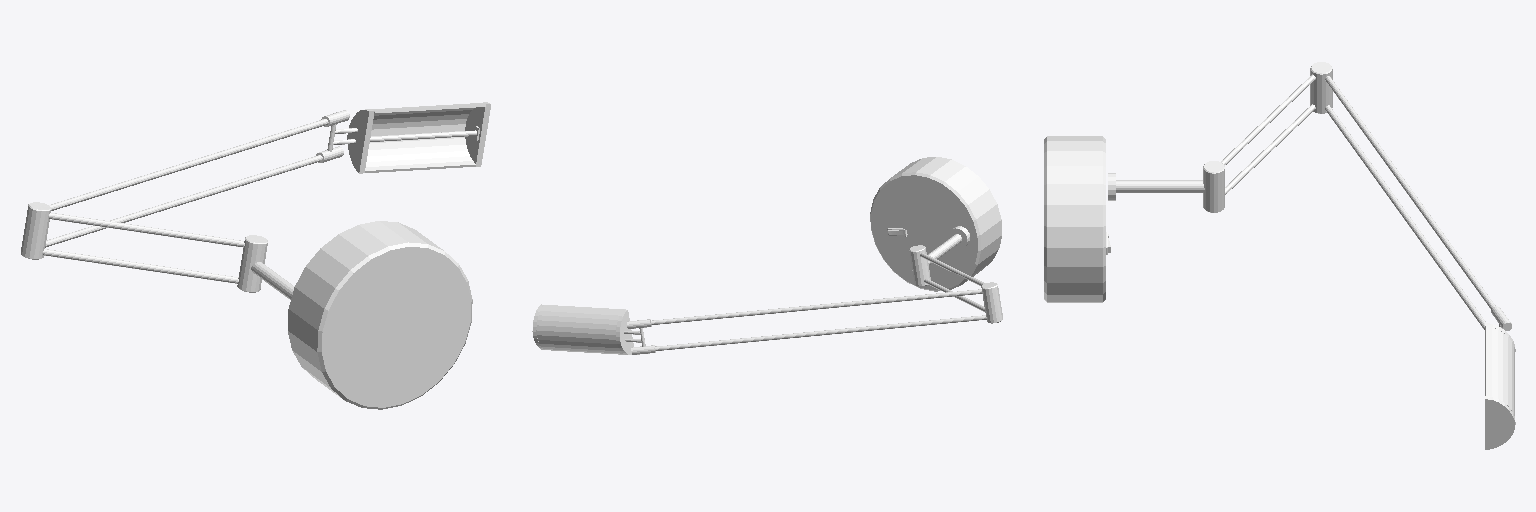
The robot description file, URDF, robot "cube.urdf":
<?xml version="0.0" ?>
<robot name="cube.urdf">
  <link name="baseLink">
    <contact>
      <lateral_friction value="1.0"/>
  <!--     <rolling_friction value="0.0"/>
      <spinning_friction value="0.01">
      <inertia_scaling value="3.0"/>
      <contact_cfm value="0.0"/>
      <contact_erp value="1.0"/> -->
    </contact>
    <inertial>
      <origin rpy="0 0 0" xyz="0 0 0"/>
       <mass value="2"/>
       <inertia ixx="1" ixy="0" ixz="0" iyy="1" iyz="0" izz="1"/>
    </inertial>
    <visual>
      <origin rpy="0 0 0" xyz="0 0 0"/>
        <geometry>
      <mesh filename="model.obj" scale=".8 .8 .8"/>
        </geometry>
        <material name="white">
          <color rgba="1 1 1 1"/>
        </material>
    </visual>
    <collision>
        <origin rpy="0 0 0" xyz="0 0 0"/>
        <geometry>
          <mesh filename="model.obj" scale=".8 .8 .8"/>
        </geometry>
    </collision>
  </link>
</robot>

--- What the picture shows (computed from the rendered views, not written in the file) ---
The picture shows the robot from 3 angles, left to right: view 1: azimuth 30°, elevation 25°; view 2: azimuth 150°, elevation 25°; view 3: azimuth 270°, elevation 25°; orthographic projection.
Robot: cube.urdf — 1 links, 0 joints (none); root link baseLink; default pose: every joint at zero.
Links seen in each view (by area): view 1: baseLink; view 2: baseLink; view 3: baseLink.
Boxes of the visible links, x1,y1,x2,y2 form: baseLink: (21,102,490,409); baseLink: (532,157,1002,354); baseLink: (1044,62,1515,449).
Size in the robot's own frame: 0.612 by 0.4823 by 0.1814 metres.
1 mesh visuals loaded from 1 distinct referenced files (1 OBJ).